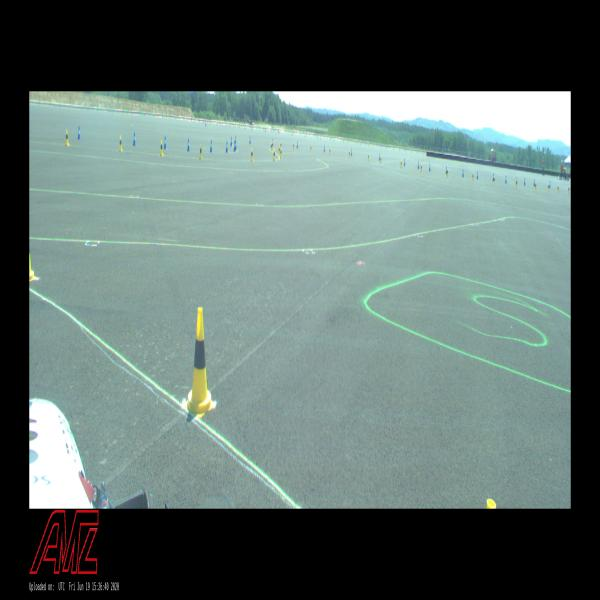blue_cone: (77, 126, 81, 139), (133, 132, 136, 146), (187, 138, 190, 152), (233, 141, 236, 151), (164, 136, 166, 149), (210, 140, 212, 152), (226, 141, 228, 152), (462, 169, 464, 177), (249, 136, 251, 144), (505, 176, 507, 184), (549, 180, 551, 188), (533, 179, 535, 186), (231, 136, 232, 146), (418, 160, 419, 169), (429, 163, 430, 172), (524, 178, 525, 186), (477, 171, 478, 179), (493, 174, 494, 182), (446, 166, 447, 174), (404, 158, 405, 166), (324, 145, 325, 152)
yellow_cone: (185, 307, 214, 418), (30, 239, 36, 281), (65, 129, 69, 146), (119, 135, 123, 151), (160, 140, 163, 156), (273, 149, 276, 161), (251, 147, 253, 162), (200, 144, 202, 159), (515, 179, 518, 188), (280, 148, 282, 159), (472, 172, 474, 182), (278, 146, 280, 156), (400, 159, 402, 168), (348, 149, 350, 158), (420, 164, 422, 172), (557, 184, 559, 192), (280, 142, 282, 150), (534, 182, 536, 190), (329, 148, 331, 154), (310, 146, 312, 152), (380, 155, 381, 164), (494, 176, 495, 185), (447, 168, 448, 177), (293, 142, 294, 150), (568, 186, 569, 194), (368, 153, 369, 161), (271, 142, 272, 150), (272, 142, 273, 150), (548, 184, 549, 192)
